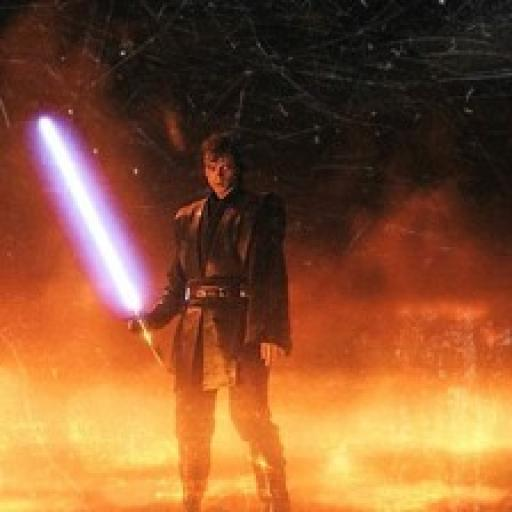human: (128, 125, 301, 512)
lightsaber: (35, 114, 166, 368)
